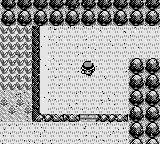captura: (1, 27, 32, 90)
main: (81, 62, 95, 75)
no-caminable: (0, 0, 159, 26), (129, 58, 160, 143)
salto: (32, 25, 79, 121), (98, 114, 128, 121)
